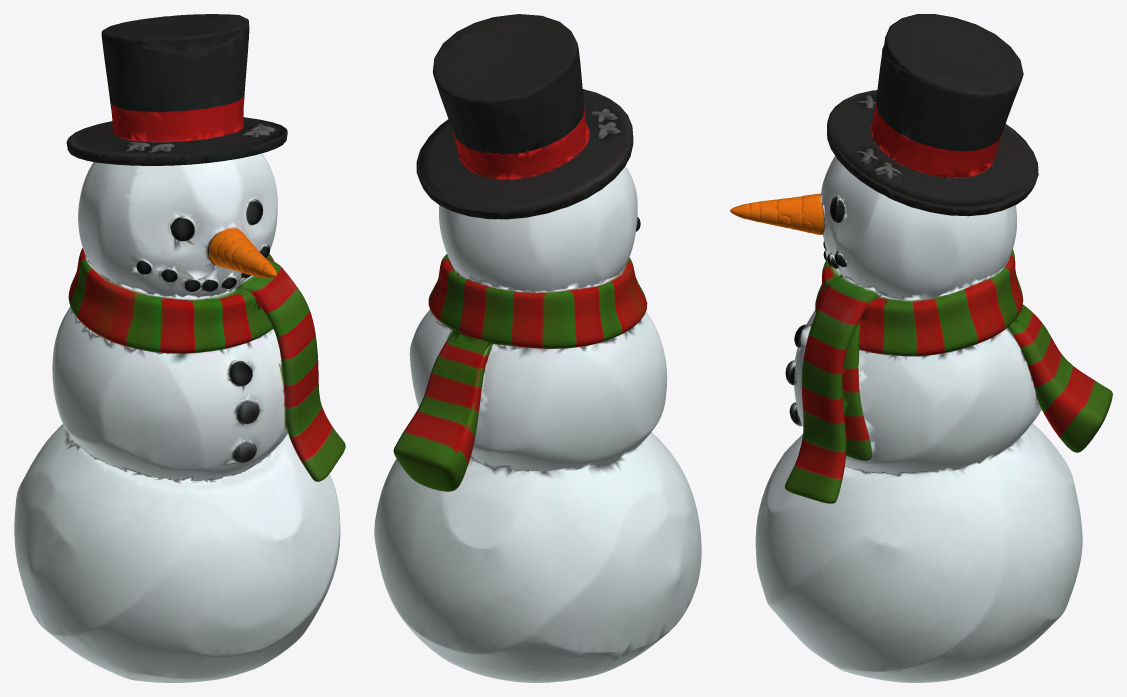
Rendered from vending-snowman-web.glb.
3 renders of one model, left to right at view 1: azimuth 30°, elevation 25°; view 2: azimuth 150°, elevation 25°; view 3: azimuth 270°, elevation 25°, orthographic.
Visible parts, largest first — view 1: tripo_node_7df522d1-1e63-4228-b6af-86112aabbcdf; view 2: tripo_node_7df522d1-1e63-4228-b6af-86112aabbcdf; view 3: tripo_node_7df522d1-1e63-4228-b6af-86112aabbcdf.
Boxes of the visible parts, bbox=[...] form: tripo_node_7df522d1-1e63-4228-b6af-86112aabbcdf: bbox=[14, 14, 345, 682]; tripo_node_7df522d1-1e63-4228-b6af-86112aabbcdf: bbox=[374, 14, 701, 682]; tripo_node_7df522d1-1e63-4228-b6af-86112aabbcdf: bbox=[730, 14, 1112, 682].
Size of the model in its own units: 0.4613 by 0.9798 by 0.5375.
Materials: 1 (1 with a texture image).
